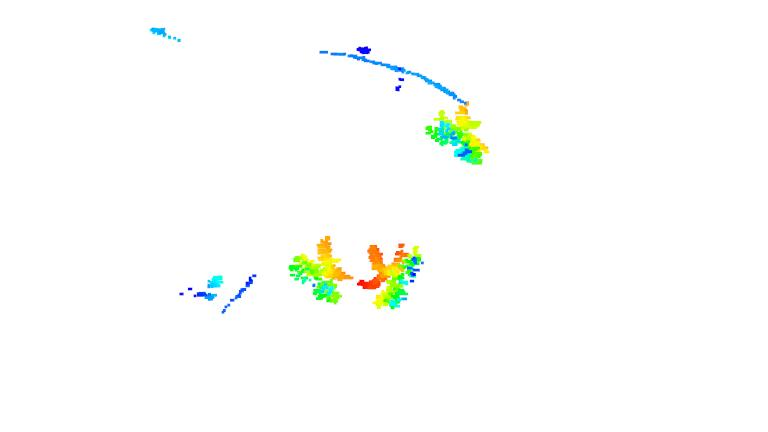chickpea: (350, 242, 428, 310), (422, 99, 495, 170), (285, 235, 352, 312)
